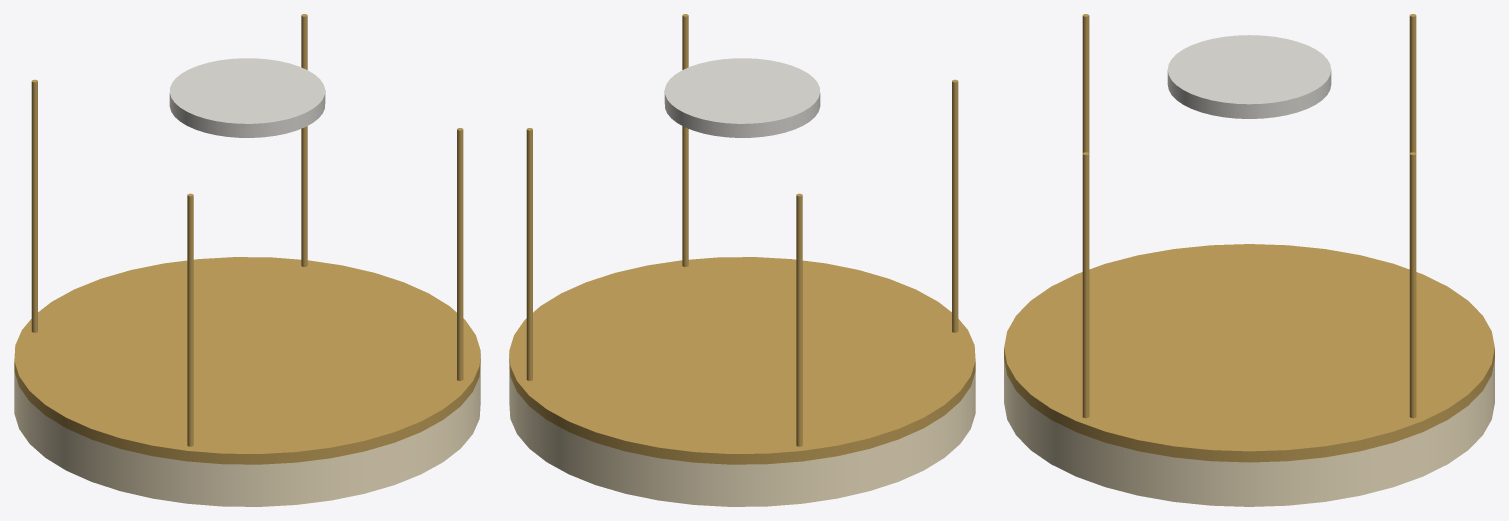
File: Chandelier_02.gltf
3 views of the same model, side by side, from view 1: azimuth 30°, elevation 25°; view 2: azimuth 150°, elevation 25°; view 3: azimuth 270°, elevation 25° (orthographic). The views are drawn at different scales.
Parts seen in each view (by area): view 1: Chandelier_02; view 2: Chandelier_02; view 3: Chandelier_02.
Part boxes in pixels (box(x1,y1,x2,y2)): Chandelier_02: box(14, 14, 480, 506); Chandelier_02: box(509, 14, 975, 506); Chandelier_02: box(1004, 14, 1494, 506).
Bounding box in the file's own units: 0.6 × 0.45 × 0.6.
